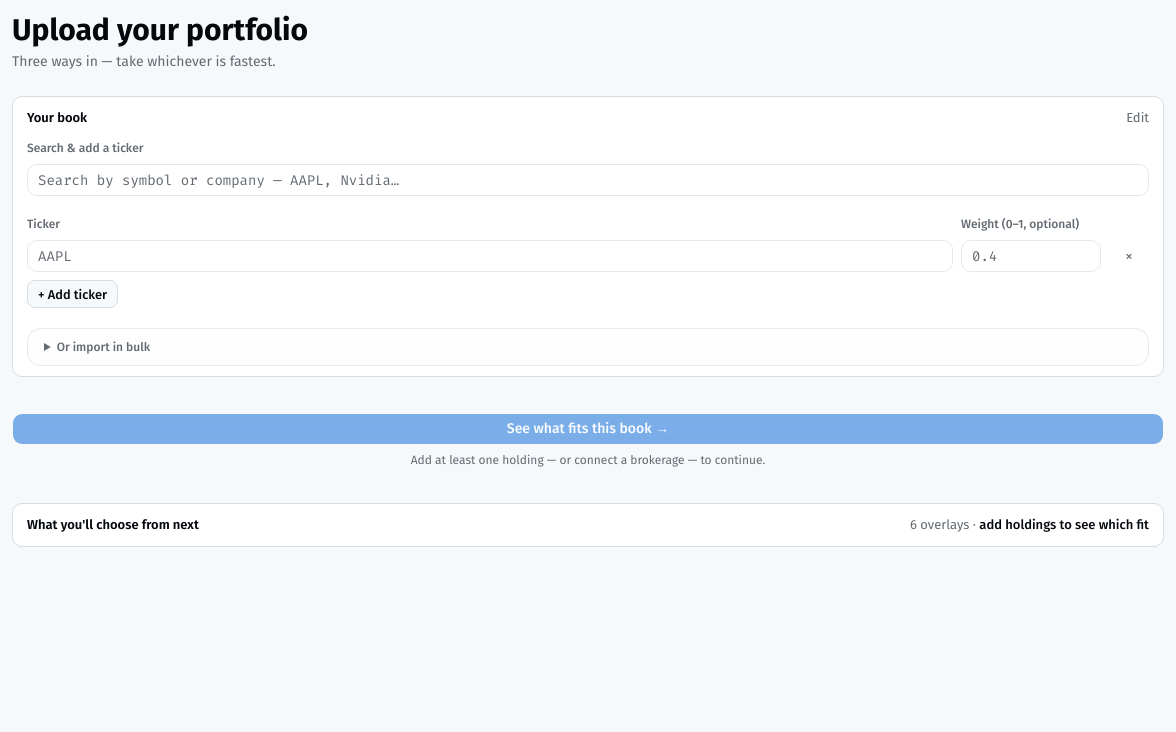
Test: PortfolioUpload › adds a holding from the search typeahead
Type "NVDA" into the field with test id "portfolio-upload-search" at [588, 180], box left=27, top=164, right=1149, bottom=196
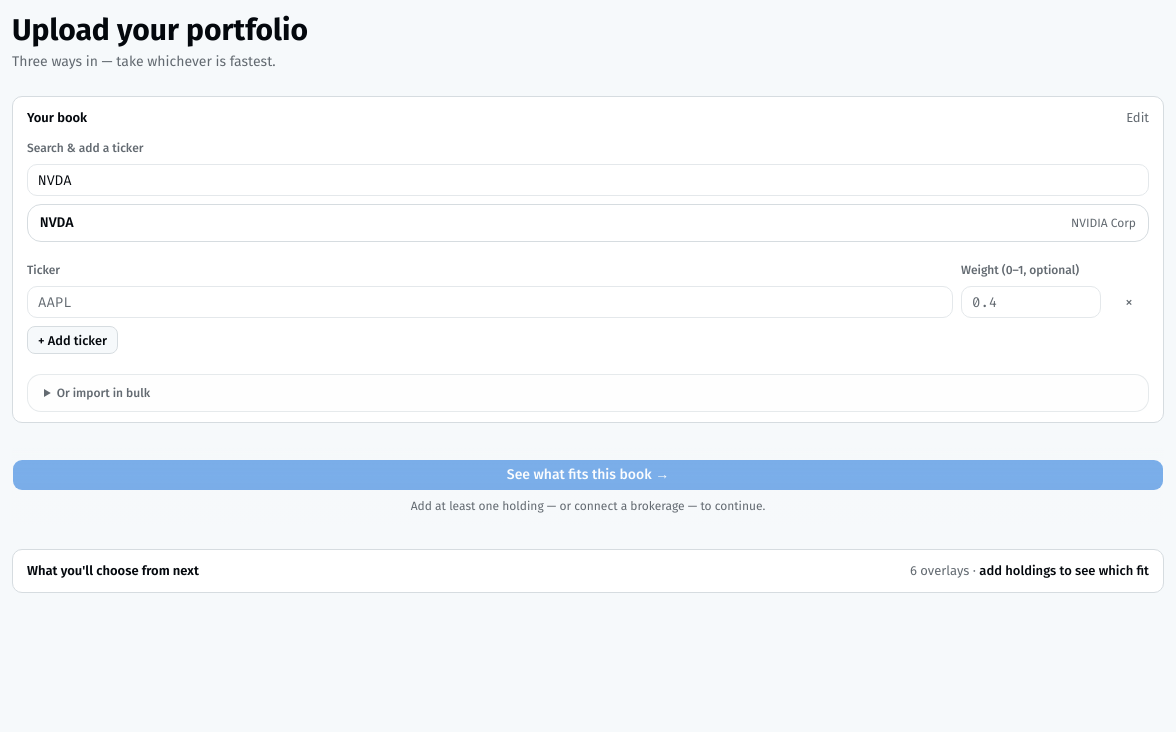
Click the button with test id "portfolio-upload-suggestion-NVDA" at [57, 223], box left=28, top=205, right=1148, bottom=241
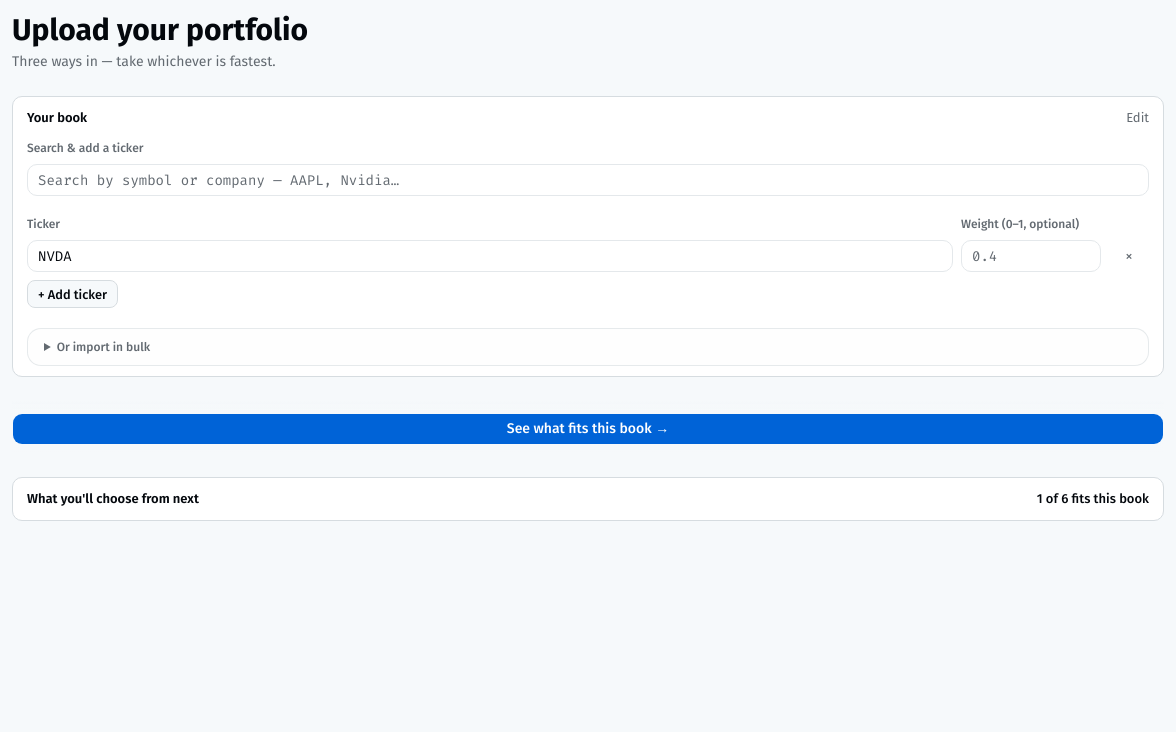
Check: the field with test id "portfolio-upload-ticker-0" holds "NVDA", box left=27, top=240, right=953, bottom=272
